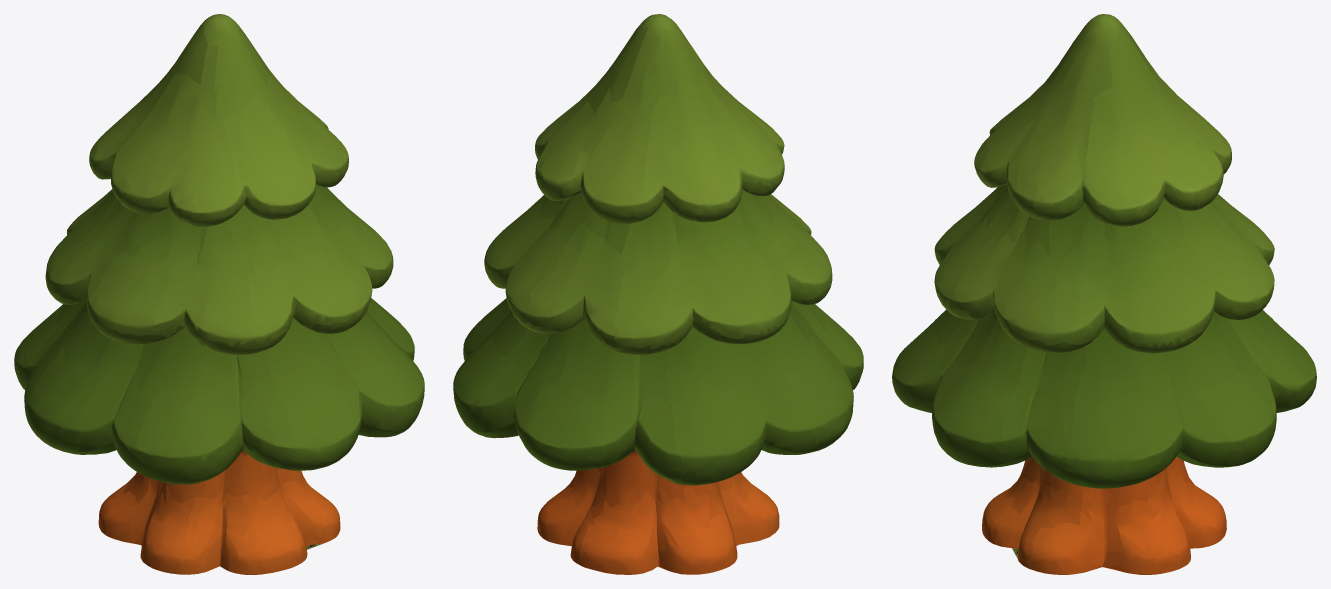
The model's file is wood_tree_pine.glb.
The picture shows the model from 3 angles, left to right: view 1: azimuth 30°, elevation 25°; view 2: azimuth 150°, elevation 25°; view 3: azimuth 270°, elevation 25°; orthographic projection.
Bounding box in the file's own units: 1.43 × 1.9 × 1.43.
1 material, 1 textured.
